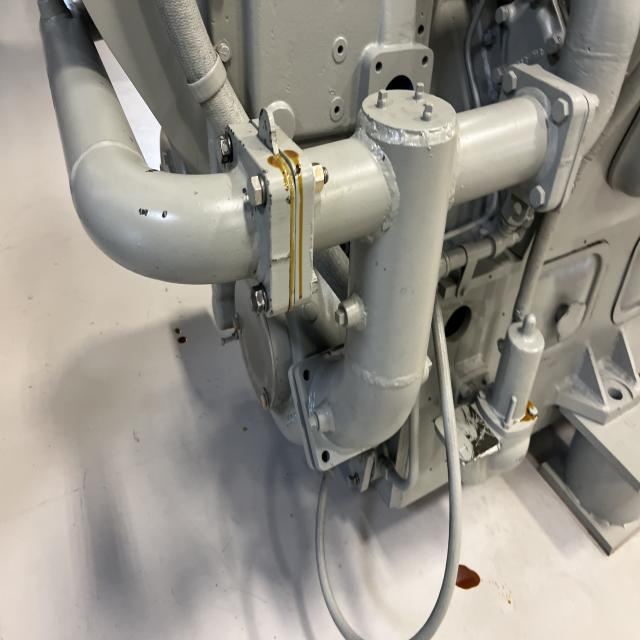Oil Leak: (267, 149, 304, 311), (456, 564, 480, 589), (519, 400, 538, 422), (458, 573, 470, 585)
